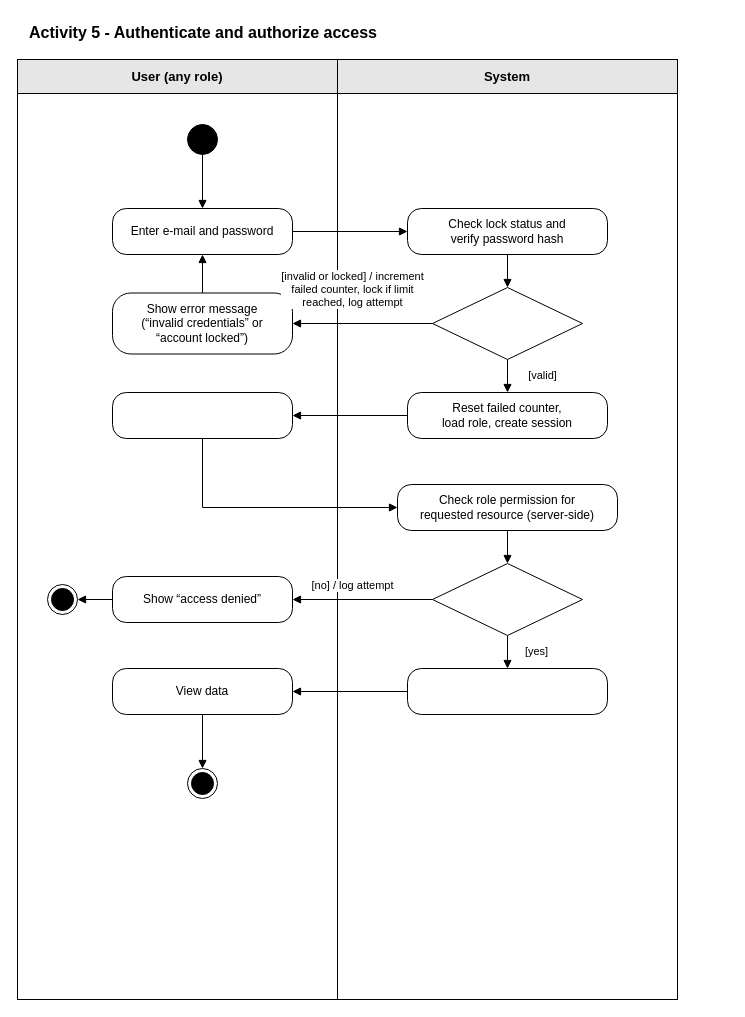
This 745x1017 diagram has some shape labels left out. The centre of each missing label's shape, as x and y in pixels:
access allowed?: pixel 507 599
login OK?: pixel 507 323
Request page or data: pixel 202 415
Return requested data: pixel 507 691
